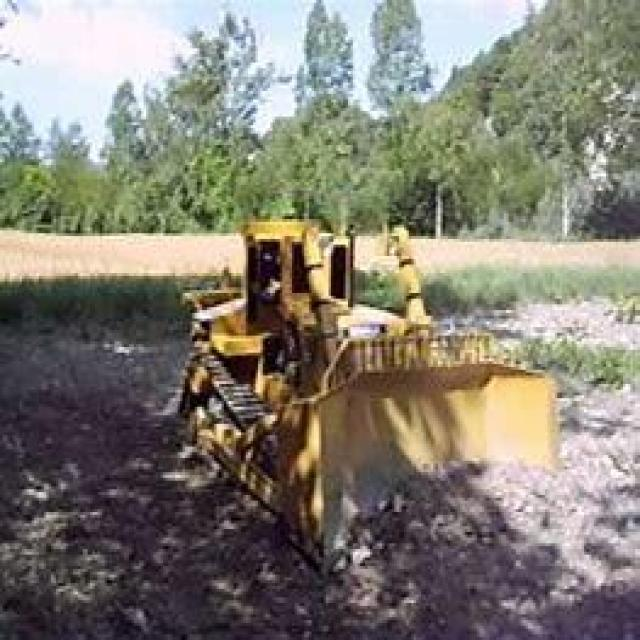buldozerpayloadergrader: (143, 205, 589, 572)
